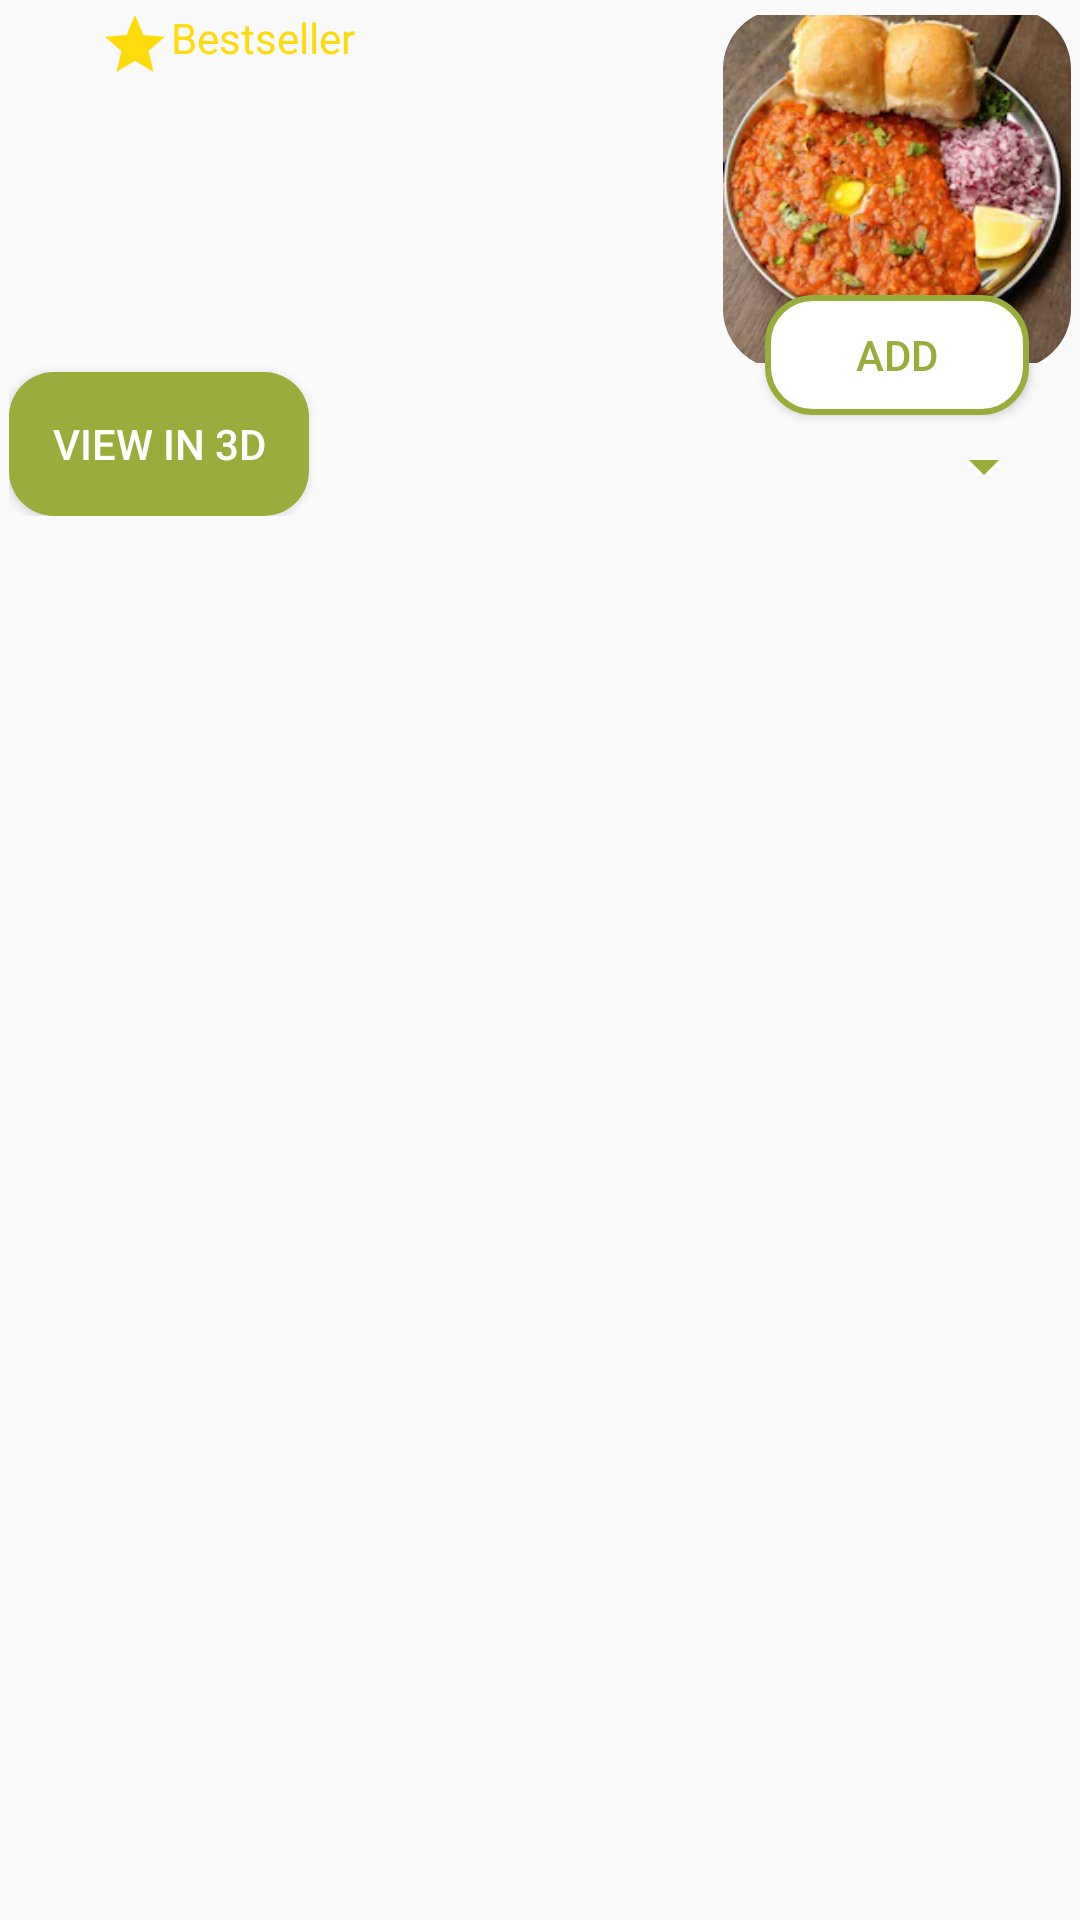

Icon bounding boxes for this 1080×1920 phone screenshot, format box=[x1, y1, x2, y2]:
pavbhaji: box=[723, 15, 1071, 369]
